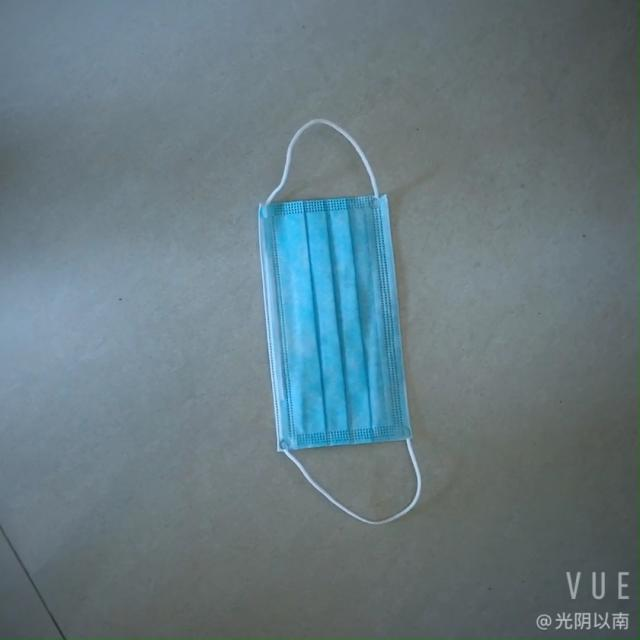non-organic waste: (257, 172, 418, 471)
